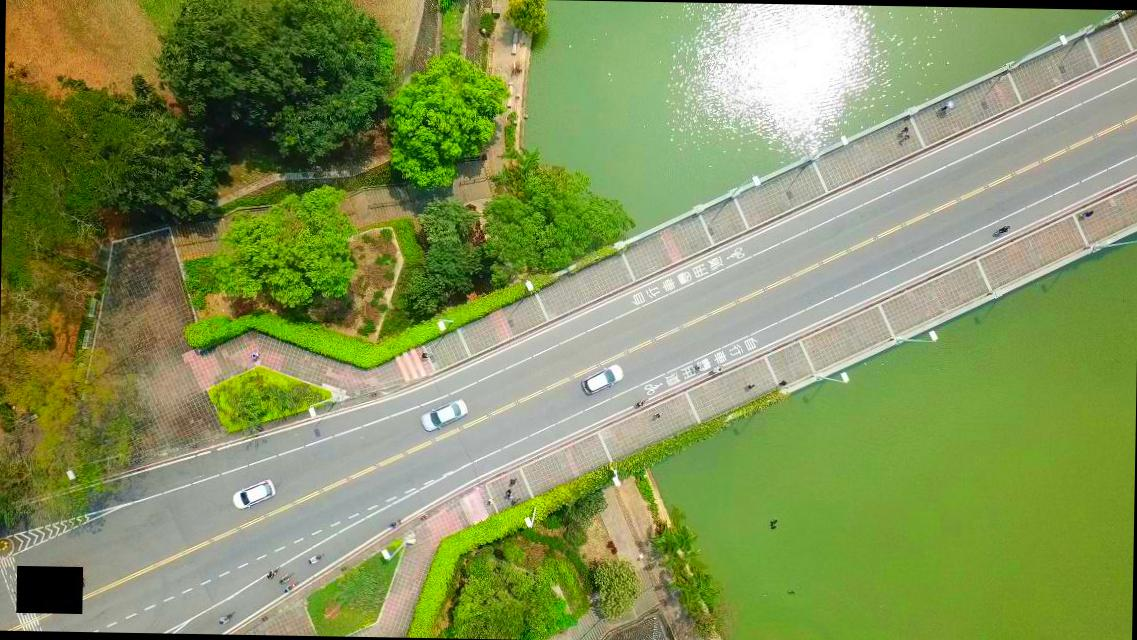vehicle: (421, 397, 469, 432), (230, 475, 278, 510), (580, 362, 624, 396)
